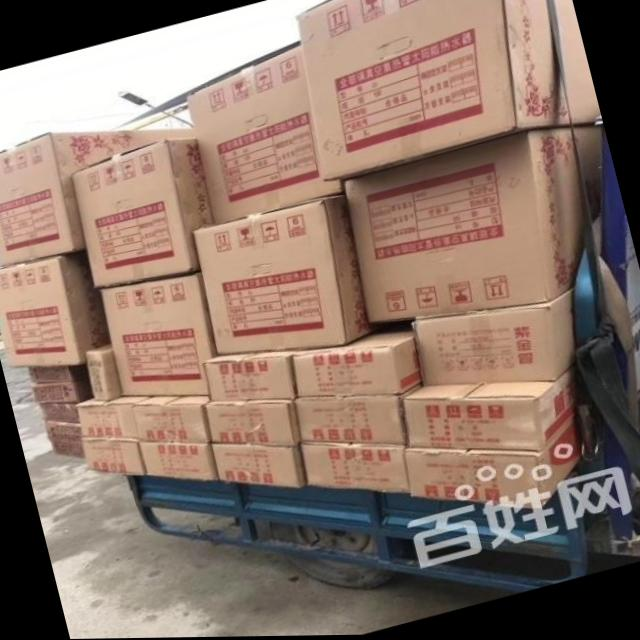box: (298, 0, 601, 180), (339, 133, 604, 321), (187, 42, 346, 227), (202, 194, 385, 353), (0, 126, 199, 267), (71, 138, 213, 287), (402, 422, 590, 508), (412, 294, 573, 384), (405, 368, 578, 451), (104, 271, 215, 396), (0, 251, 109, 368), (295, 322, 423, 397), (296, 393, 407, 447), (301, 446, 414, 493), (204, 396, 303, 443), (211, 348, 296, 401), (209, 442, 309, 486), (135, 395, 213, 442), (76, 391, 149, 441), (129, 442, 219, 479), (77, 343, 124, 399), (78, 439, 146, 476), (33, 380, 79, 404), (40, 403, 76, 425), (43, 419, 76, 438), (52, 437, 82, 453), (32, 371, 69, 381)
